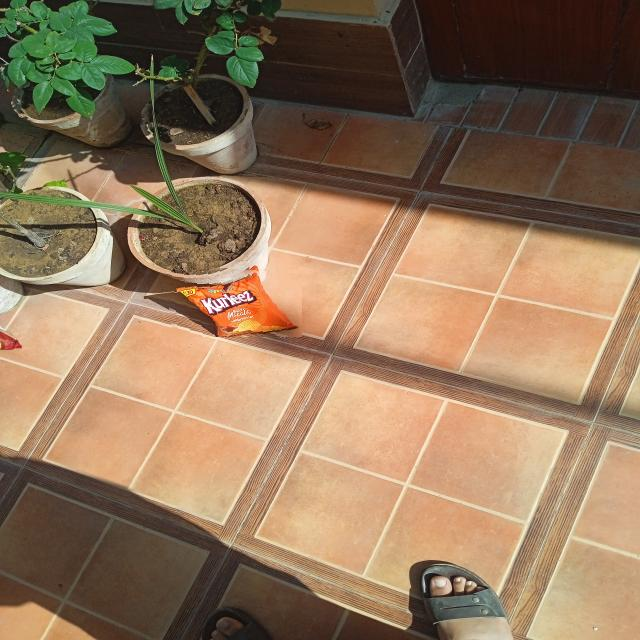Plastic: (164, 263, 302, 337)
